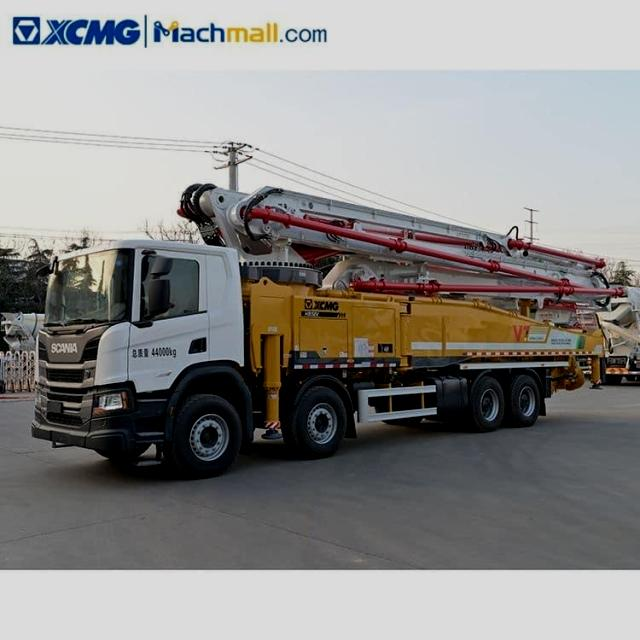Truck: (32, 203, 610, 449)
